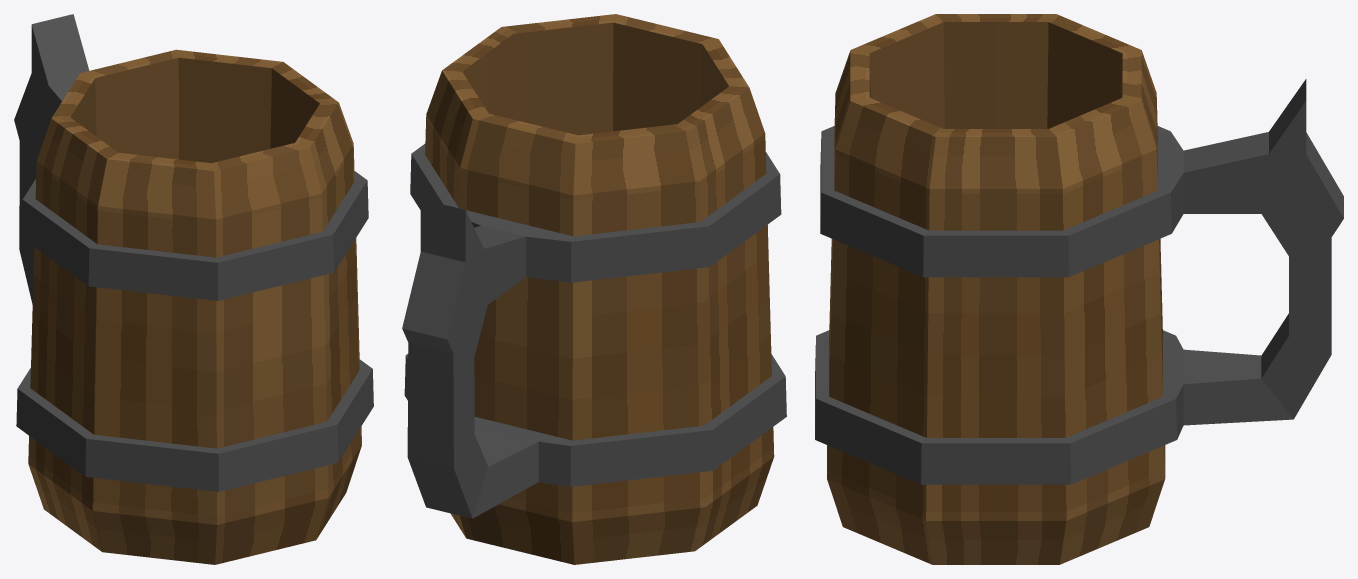
File: wood_stein.glb
3 views of the same model, side by side, from view 1: azimuth 30°, elevation 25°; view 2: azimuth 150°, elevation 25°; view 3: azimuth 270°, elevation 25° (orthographic). The views are drawn at different scales.
Visible parts, largest first — view 1: Wood_Stein; view 2: Wood_Stein; view 3: Wood_Stein.
Boxes of the visible parts, x1,y1,x2,y2 form: Wood_Stein: (14, 14, 373, 564); Wood_Stein: (402, 14, 786, 564); Wood_Stein: (815, 14, 1343, 564).
Size of the model in its own units: 0.3538 by 0.4577 by 0.5167.
Materials: 1 (1 with a texture image).
